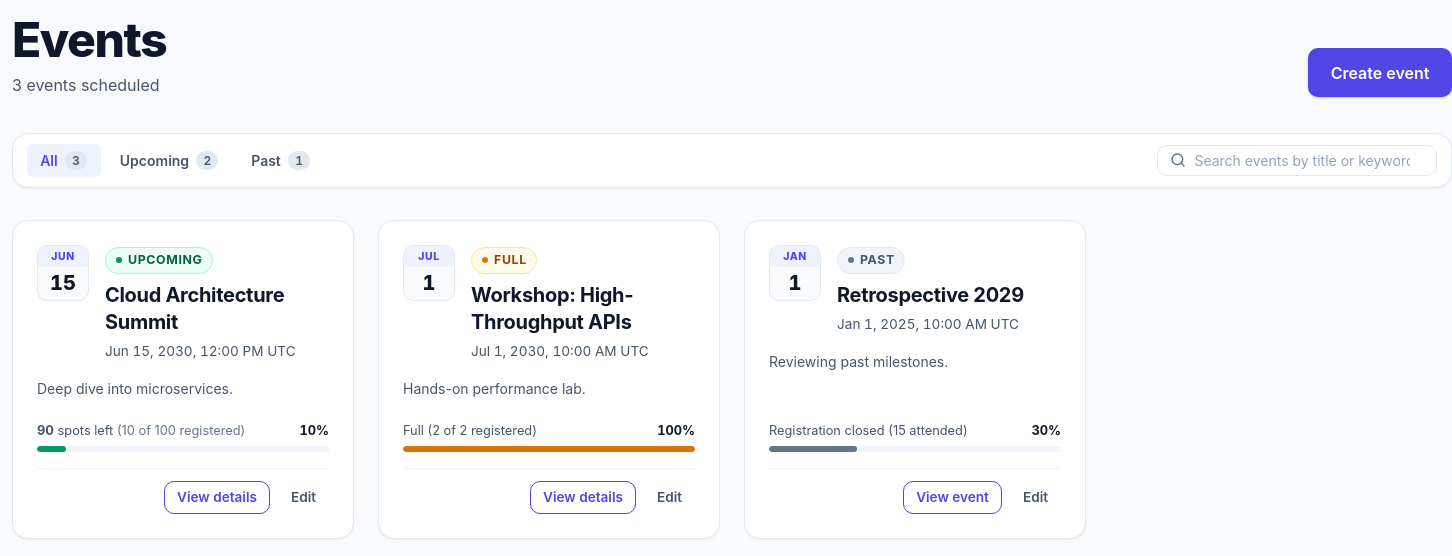
Test case: EventListPage Component › filters events by category filter button
The width and height of the screenshot is (1452, 556).
expect the link "Cloud Architecture Summit" is shown: met, box [105,283,284,334]
Note: Click "Past" category filter
Click the button "Past 1".
click(281, 160)  # box [238,144,324,177]
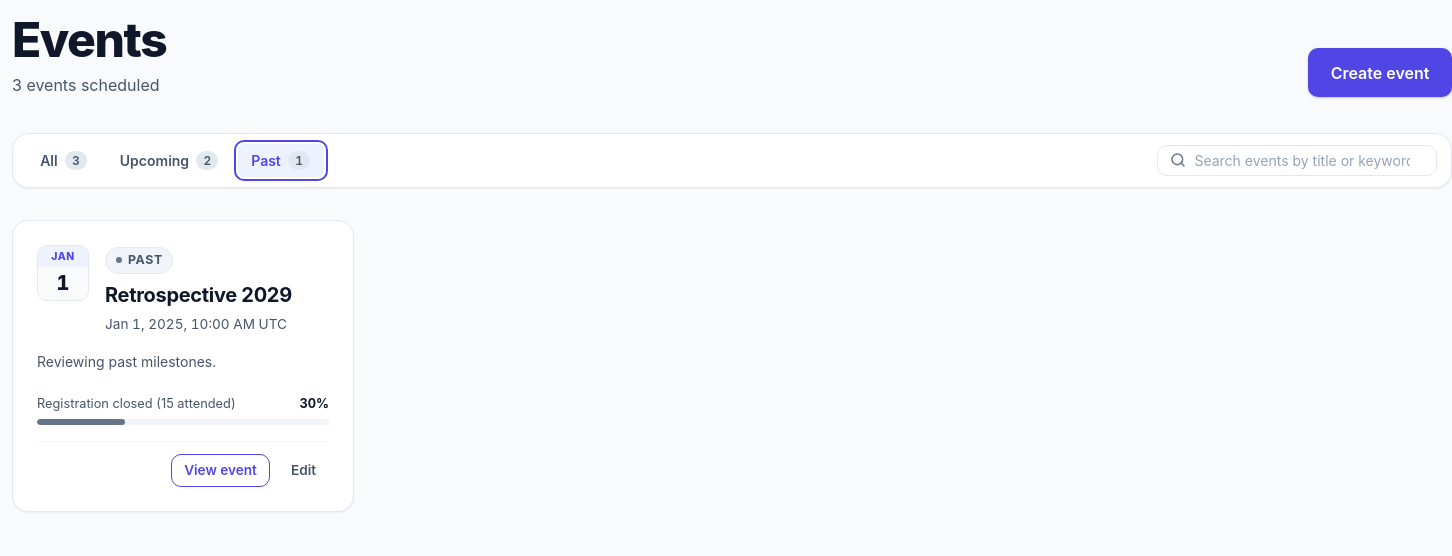
expect the link "Retrospective 2029" is shown: met, box [105,283,292,307]
expect the link "Cloud Architecture Summit" is gone: met
expect the link "Workshop: High-Throughput APIs" is gone: met
